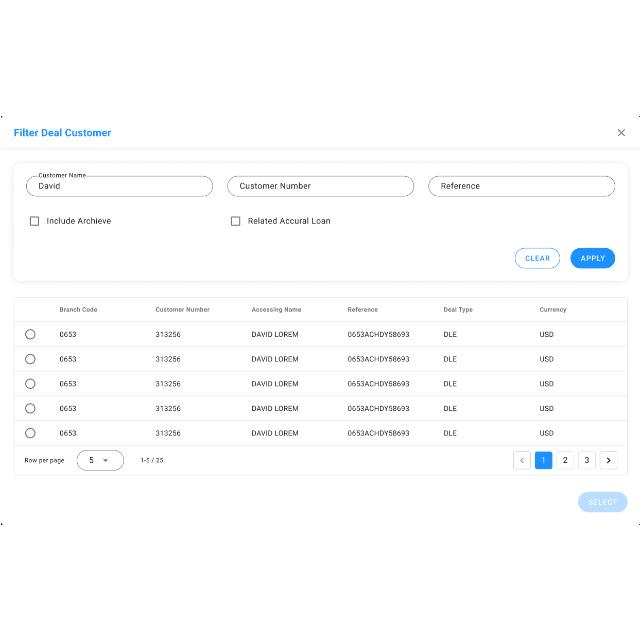QLabel: (10, 124, 116, 140), (246, 215, 330, 225), (44, 216, 110, 224), (584, 496, 622, 506), (522, 253, 554, 263), (580, 251, 606, 263)
VAppBar: (1, 115, 640, 148)
VBtn: (577, 492, 629, 512), (569, 246, 615, 268), (514, 246, 560, 268)
VCard: (13, 164, 629, 284)
VCheckbox: (26, 215, 40, 227), (229, 216, 241, 227)
VDataTable: (12, 298, 628, 474)
VIcon: (616, 125, 628, 139)
VTextField: (26, 172, 212, 196), (428, 174, 616, 196), (226, 176, 414, 197)
